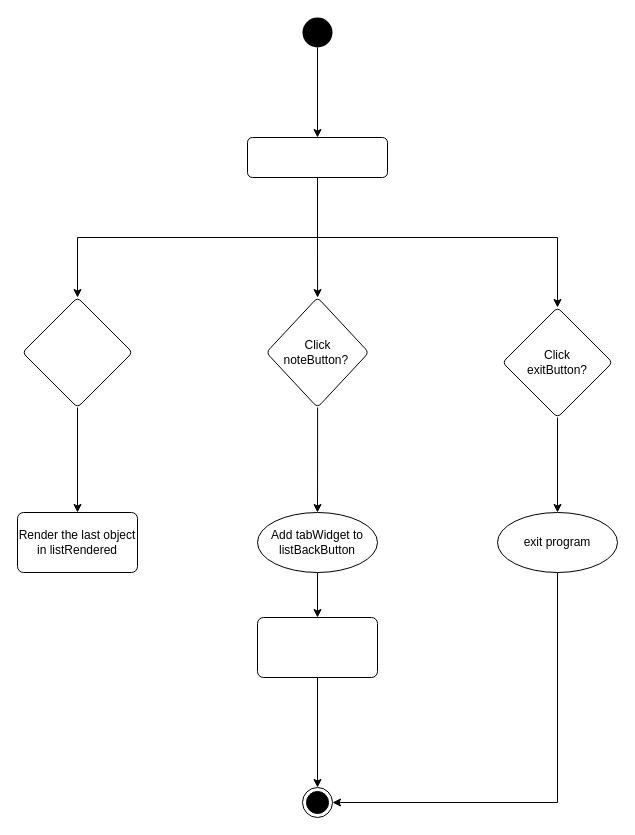
Some shapes in this 635 by 835 pixel diagram are drawn without their labels. The shapes that lost their labels are listed below. From the top down, each one's centre as x and y in pixels, then its label:
the point at 317,157: The screen display control bar
the point at 77,352: Click back button and back button is enable?
the point at 317,647: Render UI_WidgetNote
